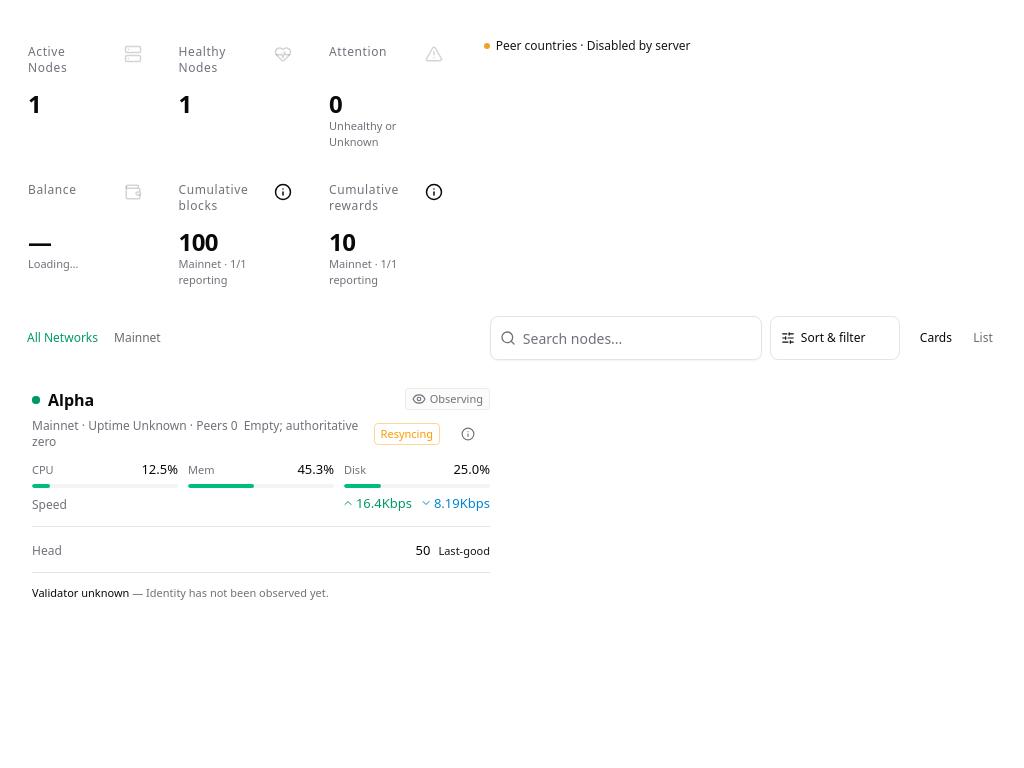
Scenario: Public Home dashboard › renders resync heights safely: 50 / Unknown (null)
Click the button "Resyncing".
click(407, 434)  # box [374,412,440,456]
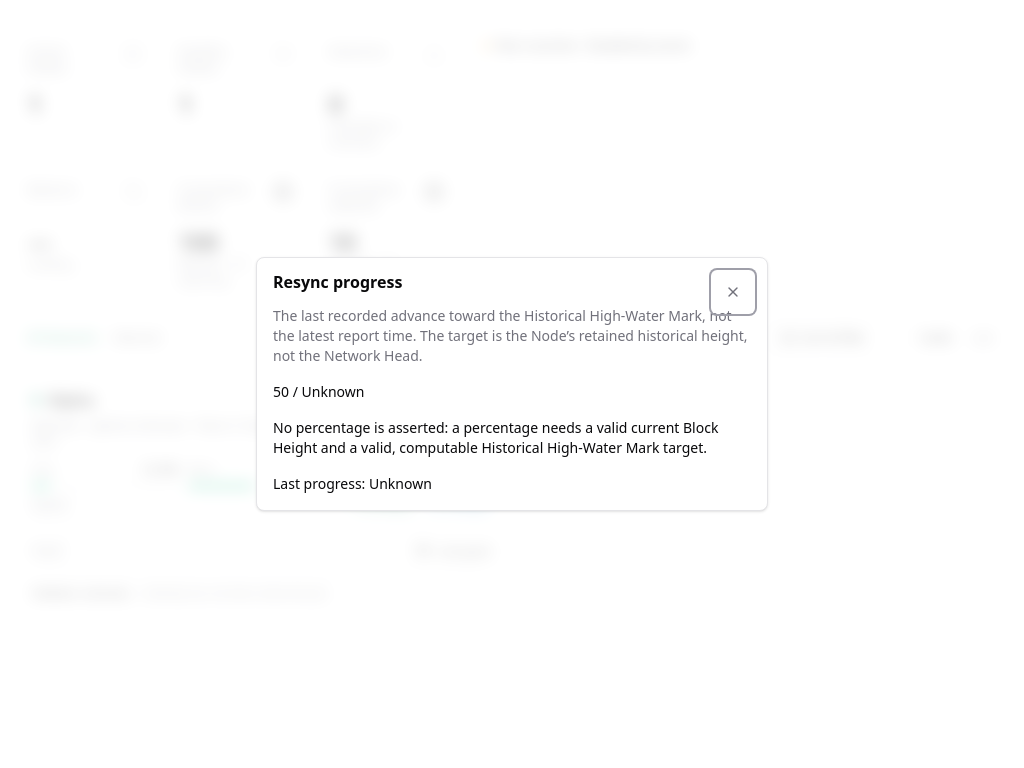
Expected: the text "50 / Unknown" is shown, [273,382,364,401]
Expected: the text "No percentage is asserted" is shown, [273,418,718,457]
